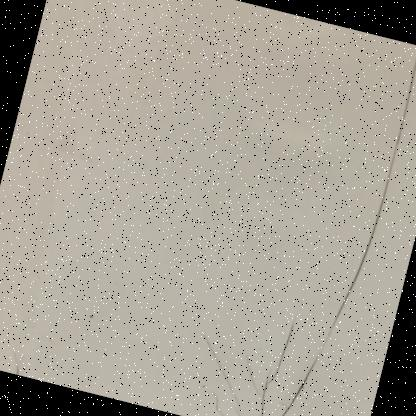Crack: (132, 0, 415, 415), (0, 325, 63, 384)
